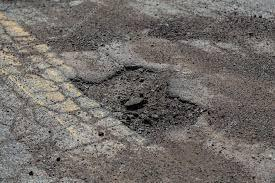alligator-crack: (0, 13, 93, 140)
pothole: (93, 64, 223, 152)
